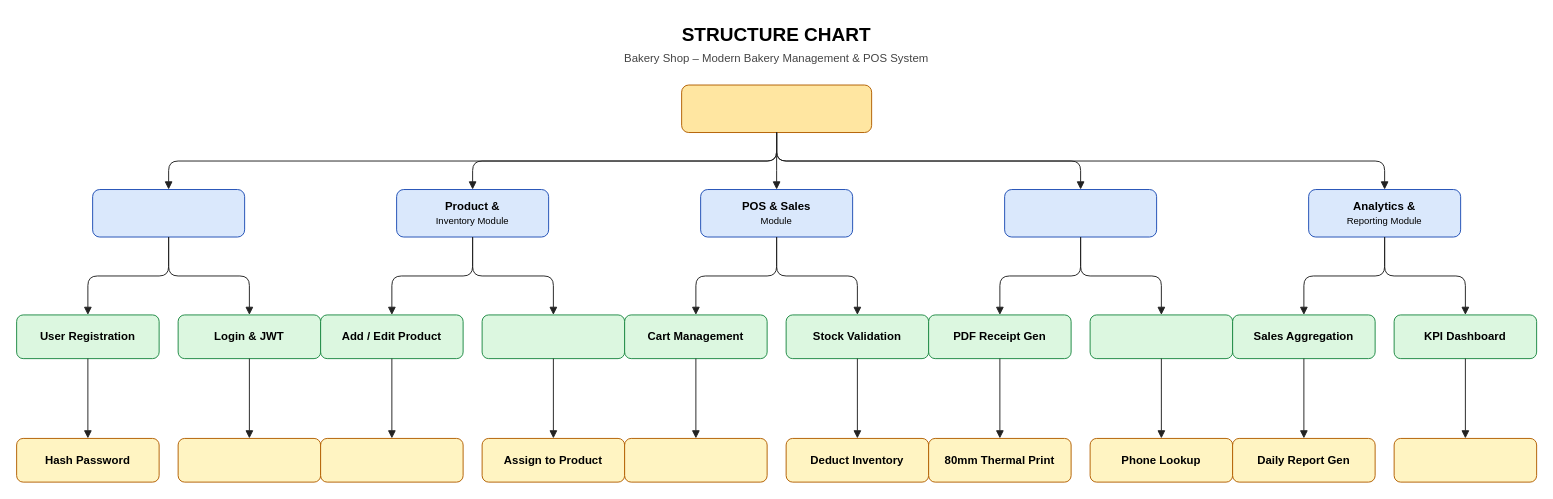
This 1553x499 diagram has some shape labels left out. The shapes that lost their labels are listed below. From the top down, each one's box as (x1, y1, x2, y2) in pixels, then its label:
(681, 84, 872, 133): Bakery Shop System
(92, 189, 245, 237): Authentication Module
(1004, 189, 1157, 237): Receipt & Notification Module
(481, 314, 625, 359): Category Management
(1089, 314, 1233, 359): WhatsApp Delivery
(177, 437, 321, 482): Role Guard
(320, 437, 463, 482): Upload Image
(624, 437, 767, 482): Apply Discount/Tax
(1393, 437, 1537, 482): Low-Stock Alert
